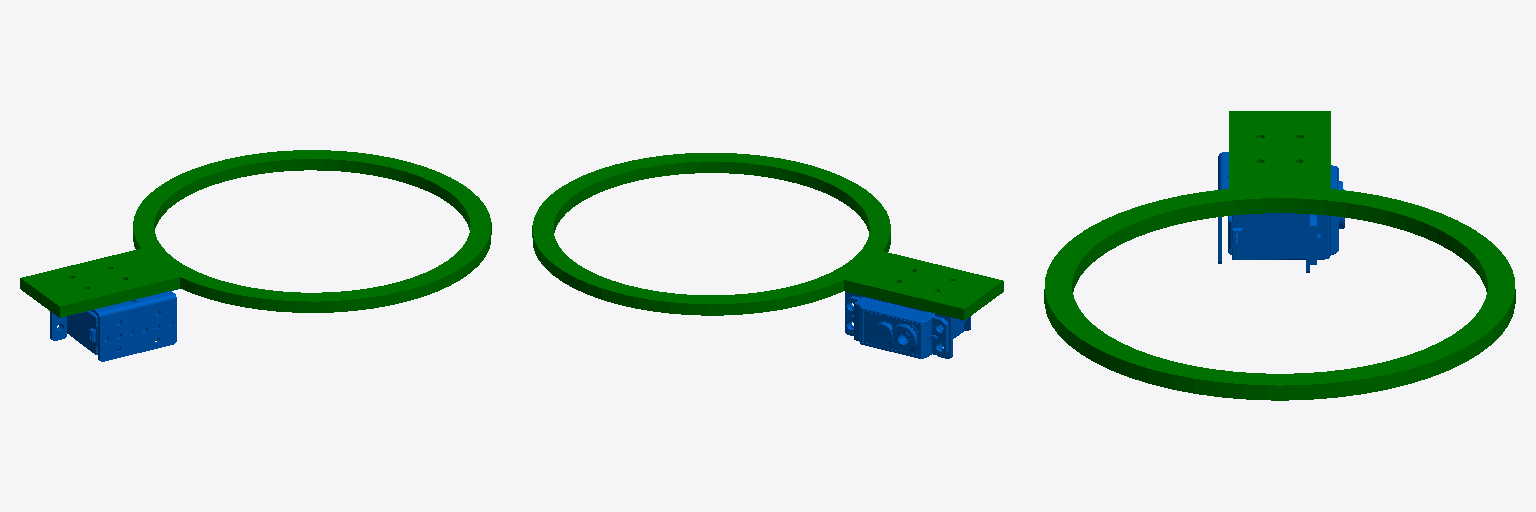
robot.urdf — learm:
<?xml version="1.0"?>
<robot name="learm">
  <link name="base_link">
    <visual>
      <geometry>
        <mesh filename="learm_description/base.stl" scale="10 10 10"/>
      </geometry>
      <material name="black">
        <color rgba="0 0 0 0.8"/>
      </material>
    </visual>
    <inertial>
      <mass value="1.0"/>
      <inertia ixx="1.0" ixy="0.0" ixz="0.0" iyy="1.0" iyz="0.0" izz="1.0"/>
    </inertial>
  </link>
  <link name="shoulder_link">
    <visual>
      <geometry>
        <mesh filename="learm_description/shoulder.stl" scale="10 10 10"/>
      </geometry>
      <material name="blue">
        <color rgba="0 0.4 0.8 0.9"/>
      </material>
    </visual>
    <inertial>
      <mass value="1.0"/>
      <inertia ixx="1.0" ixy="0.0" ixz="0.0" iyy="1.0" iyz="0.0" izz="1.0"/>
    </inertial>
  </link>
  <link name="humerus_link">
    <visual>
      <geometry>
        <mesh filename="learm_description/humerus.stl" scale="10 10 10"/>
      </geometry>
      <material name="blue">
        <color rgba="0 0.4 0.8 0.9"/>
      </material>
    </visual>
    <inertial>
      <mass value="1.0"/>
      <inertia ixx="1.0" ixy="0.0" ixz="0.0" iyy="1.0" iyz="0.0" izz="1.0"/>
    </inertial>
  </link>
  <link name="forearm_link">
    <visual>
      <geometry>
        <mesh filename="learm_description/forearm.stl" scale="10 10 10"/>
      </geometry>
      <material name="blue">
        <color rgba="0 0.4 0.8 0.9"/>
      </material>
    </visual>
    <inertial>
      <mass value="1.0"/>
      <inertia ixx="1.0" ixy="0.0" ixz="0.0" iyy="1.0" iyz="0.0" izz="1.0"/>
    </inertial>
  </link>
  <link name="wrist_link">
    <visual>
      <geometry>
        <mesh filename="learm_description/wrist.stl" scale="10 10 10"/>
      </geometry>
      <material name="blue">
        <color rgba="0 0.4 0.8 0.9"/>
      </material>
    </visual>
    <inertial>
      <mass value="1.0"/>
      <inertia ixx="1.0" ixy="0.0" ixz="0.0" iyy="1.0" iyz="0.0" izz="1.0"/>
    </inertial>
  </link>
  <link name="net_link">
    <visual>
      <geometry>
        <mesh filename="learm_description/net.stl" scale="0.01 0.01 0.01"/>
      </geometry>
      <material name="green">
        <color rgba="0 0.5 0 0.9"/>
      </material>
    </visual>
    <inertial>
      <mass value="1.0"/>
      <inertia ixx="1.0" ixy="0.0" ixz="0.0" iyy="1.0" iyz="0.0" izz="1.0"/>
    </inertial>
  </link>

  <joint name="base_joint" type="revolute">
    <parent link="base_link"/>
    <child link="shoulder_link"/>
    <origin xyz="0 0 0.59" rpy="0 0 3.14159"/>
    <axis xyz="0 0 -1"/>
    <limit lower="-1.57" upper="1.57" effort="1000" velocity="0.5"/>
  </joint>
  <joint name="shoulder_joint" type="revolute">
    <parent link="shoulder_link"/>
    <child link="humerus_link"/>
    <origin xyz="-0.10 0 0.28"/>
    <axis xyz="0 -1 0"/>
    <limit lower="0" upper="1.57" effort="1000" velocity="0.5"/>
  </joint>
  <joint name="elbow_joint" type="revolute">
    <parent link="humerus_link"/>
    <child link="forearm_link"/>
    <origin xyz="0 0 1.05"/>
    <axis xyz="0 -1 0"/>
    <limit lower="0" upper="0" effort="1000" velocity="0"/>
  </joint>
  <joint name="wrist_joint" type="revolute">
    <parent link="forearm_link"/>
    <child link="wrist_link"/>
    <origin xyz="0 0 0.90" rpy="0 0 3.14159"/>
    <axis xyz="0 -1 0"/>
    <limit lower="0" upper="1.57" effort="1000" velocity="0.5"/>
  </joint>
  <joint name="net_joint" type="fixed">
    <parent link="wrist_link"/>
    <child link="net_link"/>
    <origin xyz="1.18 0 0.15" rpy="0 0 3.14159"/><!-- 118 = 75 + 10 + 24 + 9 -->
  </joint>
</robot>

<!-- JOINT FORMAT EXPLANATION
  1. <joint name="base_joint" type="revolute">
  - joint name="base_joint": This assigns the name "base_joint" to the joint. It's a unique identifier for this specific connection.
  - type="revolute": This specifies the type of joint. "Revolute" means the joint allows rotation around a single axis, like a hinge.

    2. <parent link="base_link"/>
    - This indicates the parent link of the joint. In this case, "base_link" is the link that this joint is connected to. The base link is the link that is the most base of the robot.

    3. <child link="shoulder_link"/>
    - This indicates the child link of the joint. In this case, "shoulder_link" is the link that moves relative to the parent link ("base_link") when the joint rotates.

    4. <origin xyz="0 0 0.59"/>
    - This defines the position of the joint's origin in the parent link's coordinate frame.
    - xyz="0 0 0.059" means the joint's origin is located at:
      - 0 meters along the X-axis of the "base_link".
      - 0 meters along the Y-axis of the "base_link".
      - 0.059 meters along the Z-axis of the "base_link".
    - This is the location of the rotational center of the joint, relative to the parent link.

    5. <axis xyz="0 0 1"/>
    - This defines the axis of rotation for the joint, also in the parent link's coordinate frame.
    - xyz="0 0 1" means the rotation occurs around the Z-axis of the "base_link".
    - This means, that the shoulder link rotates around the vertical axis.

    6. <limit lower="-1.57" upper="1.57" effort="1000" velocity="0.5"/>
    - This specifies the limits of the joint's motion.
    - lower="-1.57": The minimum allowed joint angle (in radians). -1.57 radians is approximately -90 degrees.
    - upper="1.57": The maximum allowed joint angle (in radians). 1.57 radians is approximately 90 degrees.
    - effort="1000": The maximum effort (torque) that the joint can exert.
    - velocity="0.5": The maximum velocity (angular velocity) that the joint can achieve.

  </joint>
END of EXPLANATION -->

--- Facts derived from the render (not from the file) ---
3 views of the same robot in one strip: view 1: azimuth 30°, elevation 25°; view 2: azimuth 150°, elevation 25°; view 3: azimuth 270°, elevation 25° (orthographic).
Model learm with 6 links and 5 joints (4 revolute, 1 fixed), rooted at base_link, posed every joint at zero.
Links seen in each view (by area): view 1: net_link, wrist_link; view 2: net_link, wrist_link; view 3: net_link, wrist_link.
Link boxes in pixels (box(x1,y1,x2,y2)): net_link: box(20, 150, 491, 317); wrist_link: box(50, 289, 177, 361); net_link: box(532, 153, 1003, 320); wrist_link: box(845, 292, 970, 358); net_link: box(1044, 111, 1515, 400); wrist_link: box(1218, 152, 1344, 272).
Bounding box of the posed robot: 2.34 × 1.7 × 0.3248 m (x, y, z).
2 mesh visuals loaded from 6 distinct referenced files (2 binary STL); not drawn: 4 (reference not matched to a file when rendering).